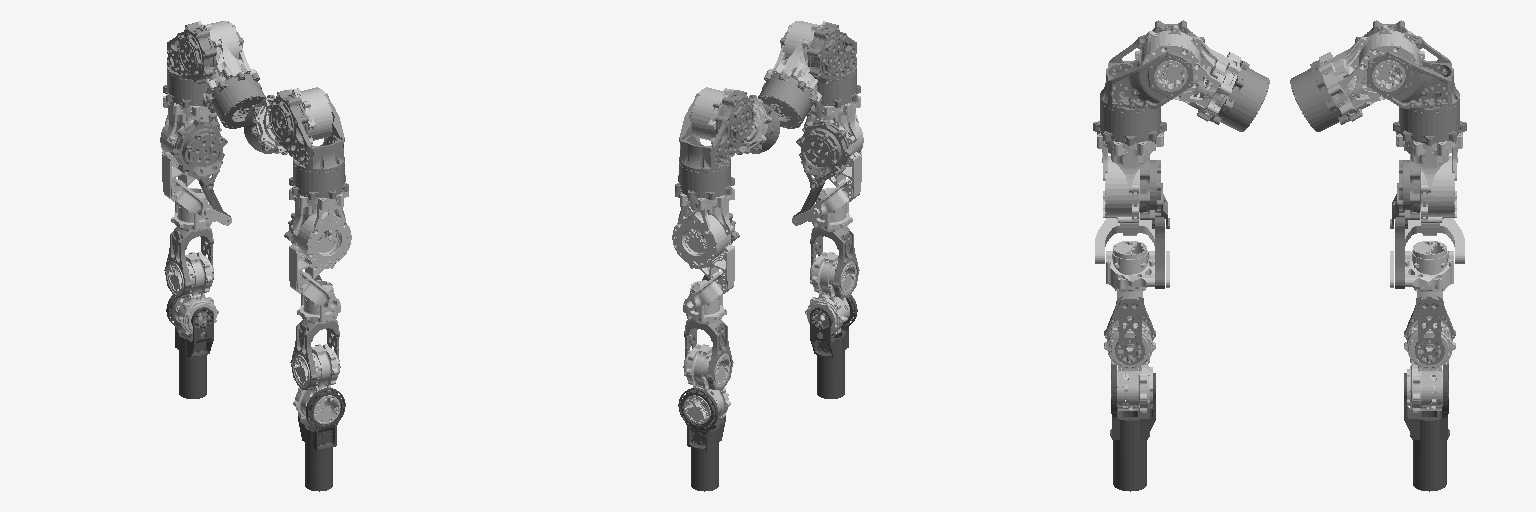
--- Render facts (derived) ---
3 views of the same robot in one strip: view 1: azimuth 30°, elevation 25°; view 2: azimuth 150°, elevation 25°; view 3: azimuth 270°, elevation 25° (orthographic).
Model raipal_stub-0 with 30 links and 29 joints (18 revolute, 11 fixed), rooted at world, posed all joints at 0.
Links seen in each view (by area): view 1: R_shoulder, R_humerus, L_shoulder, L_humerus, R_stub, L_stub, L_elb_input, R_carpal, L_carpal, L_base, R_collar, L_collar (+5 smaller); view 2: L_shoulder, L_humerus, R_shoulder, R_humerus, L_stub, R_stub, R_elb_input, L_carpal, R_carpal, R_base, L_collar, R_collar (+5 smaller); view 3: L_shoulder, R_shoulder, R_collar, L_collar, R_humerus, L_humerus, L_stub, R_stub, R_carpal, L_carpal, R_ulna, L_ulna (+8 smaller).
Link boxes in pixels (bbox=[...]): R_shoulder: bbox=[268, 90, 348, 199]; R_humerus: bbox=[289, 188, 351, 310]; L_shoulder: bbox=[163, 22, 243, 107]; L_humerus: bbox=[160, 96, 221, 217]; R_stub: bbox=[298, 388, 345, 491]; L_stub: bbox=[166, 295, 213, 398]; L_elb_input: bbox=[171, 119, 227, 189]; R_carpal: bbox=[293, 344, 340, 424]; L_carpal: bbox=[167, 252, 218, 335]; L_base: bbox=[206, 72, 265, 128]; R_collar: bbox=[252, 87, 332, 153]; L_collar: bbox=[195, 21, 256, 103]; L_shoulder: bbox=[675, 90, 755, 199]; L_humerus: bbox=[672, 188, 734, 310]; R_shoulder: bbox=[780, 22, 860, 107]; R_humerus: bbox=[802, 96, 863, 217]; L_stub: bbox=[678, 388, 725, 491]; R_stub: bbox=[810, 295, 857, 398]; R_elb_input: bbox=[796, 119, 852, 189]; L_carpal: bbox=[683, 344, 730, 424]; R_carpal: bbox=[805, 252, 856, 335]; R_base: bbox=[758, 72, 817, 128]; L_collar: bbox=[691, 87, 771, 153]; R_collar: bbox=[767, 21, 828, 103]; L_shoulder: bbox=[1355, 20, 1466, 145]; R_shoulder: bbox=[1093, 20, 1204, 145]; R_collar: bbox=[1135, 25, 1240, 121]; L_collar: bbox=[1319, 25, 1424, 121]; R_humerus: bbox=[1095, 132, 1163, 263]; L_humerus: bbox=[1396, 132, 1464, 263]; L_stub: bbox=[1404, 364, 1449, 491]; R_stub: bbox=[1110, 364, 1155, 491]; R_carpal: bbox=[1104, 316, 1155, 412]; L_carpal: bbox=[1404, 316, 1455, 412]; R_ulna: bbox=[1106, 241, 1169, 291]; L_ulna: bbox=[1390, 241, 1453, 291].
Size in the robot's own frame: 0.108 by 0.548 by 0.7385 metres.
22 mesh visuals loaded from 21 distinct referenced files (21 binary STL).

URDF robot description (raipal_stub-0):
<?xml version="1.0" encoding="utf-8"?>
<robot name="raipal_stub-0">
  <!-- [URDF-WRITER] Created with urdf-writer script (by CHH) on 2026-01-27 21:55:36.760380-->

  <!-- [URDF-WRITER] from module [_fixed-base] -->

  <!-- this link makes the robot fixed-base in RAISIM -->
  <link name="world"></link>

  <link name="base"></link>

  <joint name="base_fix" type="fixed">
    <origin xyz="0 0 0.8" rpy="0 0 0"/>
    <parent link="world" />
    <child link="base" />
    <axis xyz="0 0 0" />
  </joint>


  <!-- [URDF-WRITER] from module [raipal_R] -->

  <link name="R_base">
    <!-- CHH / 2025-09-01-20:14 -->
    <!-- link name: [R_base]-->
    <!-- frame: [R0_base]-->
    <inertial>
      <origin 
        xyz="-0.00013000 -0.06389000 -0.05559000"
        rpy="0 0 0" />
      <mass value="0.79658000" />
      <inertia
          ixx="0.00074742"
          ixy="1.892780e-6"
          ixz="-1.179560e-6"
          iyy="0.00098187"
          iyz="-0.00013334"
          izz="0.00082394" />
    </inertial>
    <visual>
      <origin
        xyz="0 0 0"
        rpy="0 0 0" />
      <geometry>
        <mesh filename="../meshes/R_base.STL" />
      </geometry>
      <material name="">
        <color rgba=".6 .6 .6 1" />
      </material>
    </visual>
    <!--<collision>
      <origin
        xyz="0 0 0"
        rpy="0 0 0" />
      <geometry>
        <mesh filename="../meshes/R_base.STL" />
      </geometry>
    </collision>-->
  </link>

  <joint name="R_fix" type="fixed">
    <origin xyz="0 0 0" rpy="0 0 0"/>
    <parent link="base" />
    <child link="R_base" />
    <axis xyz="0 0 0" />
  </joint>

  <link name="R_collar">
    <!-- CHH / 2025-09-01-20:14 -->
    <!-- link name: [R_collar]-->
    <!-- frame: [R1_flexion]-->
    <inertial>
      <origin 
        xyz="0.00471000 -1.000000e-5 0.10057000"
        rpy="0 0 0" />
      <mass value="1.72283000" />
      <inertia
          ixx="0.00466072"
          ixy="5.127800e-7"
          ixz="-0.00028338"
          iyy="0.00434837"
          iyz="8.010400e-7"
          izz="0.00167296" />
    </inertial>
    <visual>
      <origin
        xyz="0 0 0"
        rpy="0 0 0" />
      <geometry>
        <mesh filename="../meshes/R_collar.STL" />
      </geometry>
      <material name="">
        <color rgba="0.8 0.8 0.8 1" />
      </material>
    </visual>
    <!--<collision>
      <origin
        xyz="0 0 0"
        rpy="0 0 0" />
      <geometry>
        <mesh filename="../meshes/R_collar.STL" />
      </geometry>
    </collision>-->
  </link>

  <joint name="R1_flexion" type="revolute"> <!--[0]-->
    <origin
      xyz="0 -0.037198 -0.0709"
      rpy="1.0472 0 0" />
    <parent link="R_base" />
    <child link="R_collar" />
    <axis
      xyz="0 0 1" />
    <limit
      lower="-1.57"
      upper="3.14"
      effort="181"
      velocity="13.9" />
    <dynamics rotor_inertia = "0.0576402034658611" /> <!-- CHH / 2025-09-01-20:30-->
  </joint>

  <link name="R_shoulder">
    <!-- CHH / 2025-09-01-20:14 -->
    <!-- link name: [R_shoulder]-->
    <!-- frame: [R2_adduction]-->
    <inertial>
      <origin 
        xyz="-0.03309000 0.04277000 0.04408000"
        rpy="0 0 0" />
      <mass value="1.92988000" />
      <inertia
          ixx="0.00554587"
          ixy="0.00224326"
          ixz="-0.00046924"
          iyy="0.00422168"
          iyz="0.00058524"
          izz="0.00699049" />
    </inertial>
    <visual>
      <origin
        xyz="0 0 0"
        rpy="0 0 0" />
      <geometry>
        <mesh filename="../meshes/R_shoulder.STL" />
      </geometry>
      <material name="">
        <color rgba="0.6 0.6 0.6 1" />
      </material>
    </visual>
    <!--<collision>
      <origin
        xyz="0 0 0"
        rpy="0 0 0" />
      <geometry>
        <mesh filename="../meshes/R_shoulder.STL" />
      </geometry>
    </collision>-->
  </link>

  <joint name="R2_adduction" type="revolute"> <!--[1]-->
    <origin
      xyz="0.0373 0 0.1418"
      rpy="-1.5707963267949 1.0472 1.5707963267949" />
    <parent link="R_collar" />
    <child link="R_shoulder" />
    <axis
      xyz="0 0 -1" />
    <limit
      lower="-2.618"
      upper="0.488"
      effort="181"
      velocity="13.9" />
    <dynamics rotor_inertia = "0.0576402034658611" /> <!-- CHH / 2025-09-01-20:30-->
  </joint>

  <link name="R_humerus">
    <!-- CHH / 2025-09-01-20:14 -->
    <!-- link name: [R_humerus]-->
    <!-- frame: [R3_rotation]-->
    <inertial>
      <origin 
        xyz="-0.00369000 0.00351000 0.11625000"
        rpy="0 0 0" />
      <mass value="1.96262000" />
      <inertia
          ixx="0.00777442"
          ixy="-1.197057e-5"
          ixz="0.00065917"
          iyy="0.00822155"
          iyz="-0.00015972"
          izz="0.00201683" />
    </inertial>
    <visual>
      <origin
        xyz="0 0 0"
        rpy="0 0 0" />
      <geometry>
        <mesh filename="../meshes/R_humerus.STL" />
      </geometry>
      <material name="">
        <color rgba="0.8 0.8 0.8 1" />
      </material>
    </visual>
    <!--<collision>
      <origin
        xyz="0 0 0"
        rpy="0 0 0" />
      <geometry>
        <mesh filename="../meshes/R_humerus.STL" />
      </geometry>
    </collision>-->
  </link>

  <joint name="R3_rotation" type="revolute"> <!--[2]-->
    <origin
      xyz="-0.06 0.06025 0.0373"
      rpy="-1.5707963267949 1.5707963267949 0" />
    <parent link="R_shoulder" />
    <child link="R_humerus" />
    <axis
      xyz="0 0 -1" />
    <limit
      lower="-3.14"
      upper="3.14"
      effort="181"
      velocity="13.9" />
    <dynamics rotor_inertia = "0.0576402034658611" /> <!-- CHH / 2025-09-01-20:30-->
  </joint>

  <link name="R_elb_input">
    <!-- CHH / 2025-09-01-20:14 -->
    <!-- link name: [R_elb_input]-->
    <!-- frame: [R4a_elbow_power]-->
    <inertial>
      <origin 
        xyz="-2.000000e-5 0.00335000 0.05897000"
        rpy="0 0 0" />
      <mass value="0.83412000" />
      <inertia
          ixx="0.00071114"
          ixy="7.660000e-7"
          ixz="-9.255500e-7"
          iyy="0.00059983"
          iyz="-5.504818e-5"
          izz="0.00080767" />
    </inertial>
    <visual>
      <origin
        xyz="0 0 0"
        rpy="0 0 0" />
      <geometry>
        <mesh filename="../meshes/R_elb_input.STL" />
      </geometry>
      <material name="">
        <color rgba="0.6 0.6 0.6 1" />
      </material>
    </visual>
    <!--<collision>
      <origin
        xyz="0 0 0"
        rpy="0 0 0" />
      <geometry>
        <mesh filename="../meshes/R_elb_input.STL" />
      </geometry>
    </collision>-->
  </link>

  <joint name="R4a_elbow_power" type="revolute"> <!--[3]-->
    <origin
      xyz="0 0.0373 0.1418"
      rpy="1.5707963267949 0 0" />
    <parent link="R_humerus" />
    <child link="R_elb_input" />
    <axis
      xyz="0 0 1" />
    <limit
      lower="0"
      upper="1.556"
      effort="181"
      velocity="13.9" />
    <dynamics rotor_inertia = "0.0576402034658611" /> <!-- CHH / 2025-09-01-20:30-->
  </joint>

  <link name="R_elb_bar">
    <!-- CHH / 2025-09-01-20:14 -->
    <!-- link name: [R_elb_bar]-->
    <!-- frame: [R4b_elbow_bar_input]-->
    <inertial>
      <origin 
        xyz="0.04274000 0.00159000 -4.000000e-5"
        rpy="0 0 0" />
      <mass value="0.05314000" />
      <inertia
          ixx="2.335610e-6"
          ixy="0.0"
          ixz="0.0"
          iyy="6.149582e-5"
          iyz="-3.110000e-9"
          izz="6.199993e-5" />
    </inertial>
    <visual>
      <origin
        xyz="0 0 0"
        rpy="0 0 0" />
      <geometry>
        <mesh filename="../meshes/R_elb_bar.STL" />
      </geometry>
      <material name="">
        <color rgba="0.5 0.5 0.5 1" />
      </material>
    </visual>
    <!--<collision>
      <origin
        xyz="0 0 0"
        rpy="0 0 0" />
      <geometry>
        <mesh filename="../meshes/R_elb_bar.STL" />
      </geometry>
    </collision>-->
  </link>

  <joint name="R4b_elbow_bar_input" type="revolute"> <!--[4-unpowered]-->
    <origin
      xyz="0.00134978286029327 0.0599848154638326 0.0812119041053838"
      rpy="0 0 1.12941902735751" />
    <parent link="R_elb_input" />
    <child link="R_elb_bar" />
    <axis
      xyz="0 0 -1" />
    <limit
      lower="0"
      upper="1.802"
      effort="0"
      velocity="100" />
  </joint>

  <link name="R_ulna">
    <!-- CHH / 2025-09-01-20:14 -->
    <!-- link name: [R_ulna]-->
    <!-- frame: [R4_elbow]-->
    <inertial>
      <origin 
        xyz="0.00533000 0.01576000 -0.03891000"
        rpy="0 0 0" />
      <mass value="0.36947000" />
      <inertia
          ixx="0.00032310"
          ixy="-1.385696e-5"
          ixz="-4.244104e-5"
          iyy="0.00036383"
          iyz="-5.919040e-6"
          izz="0.00020708" />
    </inertial>
    <visual>
      <origin
        xyz="0 0 0"
        rpy="0 0 0" />
      <geometry>
        <mesh filename="../meshes/R_ulna.STL" />
      </geometry>
      <material name="">
        <color rgba="0.8 0.8 0.8 1" />
      </material>
    </visual>
    <!--<collision>
      <origin
        xyz="0 0 0"
        rpy="0 0 0" />
      <geometry>
        <mesh filename="../meshes/R_ulna.STL" />
      </geometry>
    </collision>-->
  </link>

  <joint name="R4_elbow" type="revolute"> <!--[5-unpowered]-->
    <origin
      xyz="0 -0.0439119041053754 0.25475"
      rpy="1.5707963267949 0 0" />
    <parent link="R_humerus" />
    <child link="R_ulna" />
    <axis
      xyz="0 0 -1" />
    <limit
      lower="0"
      upper="2.2689"
      effort="0"
      velocity="100" />
  </joint>

  <link name="R_radius">
    <!-- CHH / 2025-09-01-20:14 -->
    <inertial>
      <origin 
        xyz="0.00151000 0.0 0.10290000"
        rpy="0 0 0" />
      <mass value="0.42307000" />
      <inertia
          ixx="0.00112662"
          ixy="-1.975000e-8"
          ixz="-5.589578e-5"
          iyy="0.00120471"
          iyz="1.556000e-8"
          izz="0.00024138" />
    </inertial>
    <visual>
      <origin
        xyz="0 0 0"
        rpy="0 0 0" />
      <geometry>
        <mesh filename="../meshes/R_radius.STL" />
      </geometry>
      <material name="">
        <color rgba="0.6 0.6 0.6 1" />
      </material>
    </visual>
    <!--</collision>
      <origin
        xyz="0 0 0"
        rpy="0 0 0" />
      <geometry>
        <mesh filename="../meshes/R_radius.STL" />
      </geometry>
    </collision>-->
  </link>

  <joint name="R5_roll" type="revolute">  <!--[6]-->
    <origin
      xyz="0 -0.0135819531869474 -0.0439119041053754"
      rpy="-1.5707963267949 0 0" />
    <parent link="R_ulna" />
    <child link="R_radius" />
    <axis
      xyz="0 0 -1" />
    <limit
      lower="-1.57"
      upper="1.57"
      effort="12.61"
      velocity="53.8" />
    <dynamics rotor_inertia = "0.000540543349430043" /> <!-- CHH / 2025-09-01-20:30-->
  </joint>

  <link name="R_carpal">
    <!-- CHH / 2025-09-01-20:14 -->
    <inertial>
      <origin 
        xyz="-0.00117000 0.03421000 0.02964000"
        rpy="0 0 0" />
      <mass value="0.67981000" />
      <inertia
          ixx="0.00128813"
          ixy="3.134577e-5"
          ixz="3.268690e-6"
          iyy="0.00040998"
          iyz="-9.323146e-5"
          izz="0.00126953" />
    </inertial>
    <visual>
      <origin
        xyz="0 0 0"
        rpy="0 0 0" />
      <geometry>
        <mesh filename="../meshes/R_carpal.STL" />
      </geometry>
      <material name="">
        <color rgba="0.8 0.8 0.8 1" />
      </material>
    </visual>
    <!--</collision>
      <origin
        xyz="0 0 0"
        rpy="0 0 0" />
      <geometry>
        <mesh filename="../meshes/R_carpal.STL" />
      </geometry>
    </collision>-->
  </link>

  <joint name="R6_pitch" type="revolute">  <!--[7]-->
    <origin
      xyz="-0.0337 0 0.153581953186935"
      rpy="1.5707963267949 0 1.5707963267949" />
    <parent link="R_radius" />
    <child link="R_carpal" />
    <axis
      xyz="0 0 1" />
    <limit
      lower="-2.0944"
      upper="2.0944"
      effort="12.61"
      velocity="53.8" />
    <dynamics rotor_inertia = "0.000540543349430043" /> <!-- CHH / 2025-09-01-20:30-->
  </joint>

  <link name="R_ee">
    <!-- CHH / 2025-09-01-20:14 -->
    <inertial>
      <origin 
        xyz="0.0 0.0 0.04531000"
        rpy="0 0 0" />
      <mass value="0.13143000" />
      <inertia
          ixx="3.339173e-5"
          ixy="0.0"
          ixz="0.0"
          iyy="3.339173e-5"
          iyz="0.0"
          izz="4.133016e-5" />
    </inertial>
    <visual>
      <origin
        xyz="0 0 0"
        rpy="0 0 0" />
      <geometry>
        <mesh filename="../meshes/R_ee.STL" />
      </geometry>
      <material name="">
        <color rgba="0.6 0.6 0.6 1" />
      </material>
    </visual>
    <!--</collision>
      <origin
        xyz="0 0 0"
        rpy="0 0 0" />
      <geometry>
        <mesh filename="../meshes/R_ee.STL" />
      </geometry>
    </collision>-->
  </link>

  <joint name="R7_yaw" type="revolute">  <!--[8]-->
    <origin
      xyz="0.0264 0.073 0.0337"
      rpy="0 -1.5707963267949 0" />
    <parent link="R_carpal" />
    <child link="R_ee" />
    <axis
      xyz="0 0 -1" />
    <limit
      lower="-1.57079"
      upper="1.57079"
      effort="12.61"
      velocity="53.8" />
    <dynamics rotor_inertia = "0.000540543349430043" /> <!-- CHH / 2025-09-01-20:30-->
  </joint>

  <!-- Imaginary links for loop closure -->
  <link name="R_loop_barside"></link>

  <joint name="R4cA_elbow_loop_bar" type="fixed">
    <origin
      xyz="0.0854747786370337 0 0"
      rpy="0 0 0" />
    <parent link="R_elb_bar" />
    <child link="R_loop_barside" />
    <axis
      xyz="0 0 1" />
    <!-- relaxed limits since others are constrained -->
    <limit
      lower="-3.14"
      upper="3.14"
      effort="0"
      velocity="100" />
  </joint>

  <link name="R_loop_ulnaside"></link>

  <joint name="R4cB_elbow_loop_ulna_fixed" type="fixed">
    <origin
      xyz="0.0378633410992504 0.0243180468130526 0"
      rpy="0 0 1.12941902735751" />
    <parent link="R_ulna" />
    <child link="R_loop_ulnaside" />
    <axis
      xyz="0 0 0" />
  </joint>

  
  <!-- [URDF-WRITER] from module [stub-0_R] -->
  <link name="R_stub">
    <!-- CHH / 2025-10-17-21:24 -->
    <!-- link name: [stub-0]-->
    <!-- frame: [RE_end-effector]-->
    <inertial>
      <origin 
        xyz="0.0 -0.06296000 0.02373000"
        rpy="0 0 0" />
      <mass value="0.36027000" />
      <inertia
          ixx="0.00101582"
          ixy="0.0"
          ixz="0.0"
          iyy="0.00024407"
          iyz="7.755489e-5"
          izz="0.00097350" />
    </inertial>
    <visual>
      <origin
        xyz="0 0 0"
        rpy="0 0 0" />
      <geometry>
        <mesh filename="../meshes/stub_0.STL" />
      </geometry>
      <material name="">
        <color rgba="0.4 0.4 0.4 1" />
      </material>
    </visual>
  </link>

  <joint name="RE_end_effector_fixed" type="fixed">
    <origin
      xyz="0 0 0"
      rpy="0 0 3.141592" />
    <parent link="R_ee" />
    <child link="R_stub" />
    <axis
      xyz="0 0 3.141592" />
  </joint>


  <link name="R_stub-tip"></link>

  <joint name="RE_tip_fixed" type="fixed">
    <origin
      xyz="0 -0.157 0.0264"
      rpy="-1.5708 0 3.141592" />
    <parent link="R_stub" />
    <child link="R_stub-tip" />
    <axis
      xyz="0 0 0" />
  </joint>
  <!-- [URDF-WRITER] from module [raipal_L] -->

  <link name="L_base">
    <!-- CHH / 2025-09-01-20:14 -->
    <!-- mirrored from [L_base] (frame: R0_base)-->
    <inertial>
      <origin 
        xyz="-0.00013000 0.06389000 -0.05559000"
        rpy="0 0 0" />
      <mass value="0.79658000" />
      <inertia
          ixx="0.00074742"
          ixy="-1.892780e-6"
          ixz="-1.179560e-6"
          iyy="0.00098187"
          iyz="0.00013334"
          izz="0.00082394" />
    </inertial>
    <visual>
      <origin
        xyz="0 0 0"
        rpy="0 0 0" />
      <geometry>
        <mesh filename="../meshes/L_base.STL" />
      </geometry>
      <material name="">
        <color rgba=".6 .6 .6 1" />
      </material>
    </visual>
    <!--</collision>
      <origin
        xyz="0 0 0"
        rpy="0 0 0" />
      <geometry>
        <mesh filename="../meshes/L_base.STL" />
      </geometry>
    </collision>-->
  </link>

  <joint name="L_fix" type="fixed">
    <origin xyz="0 0 0" rpy="0 0 0"/>
    <parent link="base" />
    <child link="L_base" />
    <axis xyz="0 0 0" />
  </joint>

  <link name="L_collar">
    <!-- CHH / 2025-09-01-20:14 -->
    <!-- mirrored from [L_collar] (frame: R1_flexion)-->
    <inertial>
      <origin 
        xyz="0.00471000 1.000000e-5 0.10057000"
        rpy="0 0 0" />
      <mass value="1.72283000" />
      <inertia
          ixx="0.00466072"
          ixy="-5.127800e-7"
          ixz="-0.00028338"
          iyy="0.00434837"
          iyz="-8.010400e-7"
          izz="0.00167296" />
    </inertial>
    <visual>
      <origin
        xyz="0 0 0"
        rpy="0 0 0" />
      <geometry>
        <mesh filename="../meshes/L_collar.STL" />
      </geometry>
      <material name="">
        <color rgba="0.8 0.8 0.8 1" />
      </material>
    </visual>
    <!--</collision>
      <origin
        xyz="0 0 0"
        rpy="0 0 0" />
      <geometry>
        <mesh filename="../meshes/L_collar.STL" />
      </geometry>
    </collision>-->
  </link>

  <joint name="L1_flexion" type="revolute"> <!--[0]-->
    <origin
      xyz="0 0.037198 -0.0709"
      rpy="-1.0472 0 0" />
    <parent link="L_base" />
    <child link="L_collar" />
    <axis
      xyz="0 0 -1" />
    <limit
      lower="-1.57"
      upper="3.14"
      effort="181"
      velocity="13.9" />
    <dynamics rotor_inertia = "0.0576402034658611" />
    <!-- Calculated by CHH on 2025-09-01-20:14-->  
  </joint>

  <link name="L_shoulder">
    <!-- CHH / 2025-09-01-20:14 -->
    <!-- mirrored from [L_shoulder] (frame: R2_adduction)-->
    <inertial>
      <origin 
        xyz="-0.03309000 -0.04277000 0.04408000"
        rpy="0 0 0" />
      <mass value="1.92988000" />
      <inertia
          ixx="0.00554587"
          ixy="-0.00224326"
          ixz="-0.00046924"
          iyy="0.00422168"
          iyz="-0.00058524"
          izz="0.00699049" />
    </inertial>
    <visual>
      <origin
        xyz="0 0 0"
        rpy="0 0 0" />
      <geometry>
        <mesh filename="../meshes/L_shoulder.STL" />
      </geometry>
      <material name="">
        <color rgba="0.6 0.6 0.6 1" />
      </material>
    </visual>
    <!--</collision>
      <origin
        xyz="0 0 0"
        rpy="0 0 0" />
      <geometry>
        <mesh filename="../meshes/L_shoulder.STL" />
      </geometry>
    </collision>-->
  </link>

  <joint name="L2_adduction" type="revolute"> <!--[1]-->
    <origin
      xyz="0.0373 0 0.1418"
      rpy="1.5707963267949 1.0472 -1.5707963267949" />
    <parent link="L_collar" />
    <child link="L_shoulder" />
    <axis
      xyz="0 0 1" />
    <limit
      lower="-2.618"
      upper="0.488"
      effort="181"
      velocity="13.9" />
    <dynamics rotor_inertia = "0.0576402034658611" /> <!-- CHH / 2025-09-01-20:30-->
  </joint>

  <link name="L_humerus">
    <!-- CHH / 2025-09-01-20:14 -->
    <!-- mirrored from [L_humerus] (frame: R3_rotation)-->
    <inertial>
      <origin 
        xyz="-0.00369000 -0.00351000 0.11625000"
        rpy="0 0 0" />
      <mass value="1.96262000" />
      <inertia
          ixx="0.00777442"
          ixy="1.197057e-5"
          ixz="0.00065917"
          iyy="0.00822155"
          iyz="0.00015972"
          izz="0.00201683" />
    </inertial>
    <visual>
      <origin
        xyz="0 0 0"
        rpy="0 0 0" />
      <geometry>
        <mesh filename="../meshes/L_humerus.STL" />
      </geometry>
      <material name="">
        <color rgba="0.8 0.8 0.8 1" />
      </material>
    </visual>
    <!--</collision>
      <origin
        xyz="0 0 0"
        rpy="0 0 0" />
      <geometry>
        <mesh filename="../meshes/L_humerus.STL" />
      </geometry>
    </collision>-->
  </link>

  <joint name="L3_rotation" type="revolute"> <!--[2]-->
    <origin
      xyz="-0.06 -0.06025 0.0373"
      rpy="1.5707963267949 1.5707963267949 0" />
    <parent link="L_shoulder" />
    <child link="L_humerus" />
    <axis
      xyz="0 0 1" />
    <limit
      lower="-3.14"
      upper="3.14"
      effort="181"
      velocity="13.9" />
    <dynamics rotor_inertia = "0.0576402034658611" /> <!-- CHH / 2025-09-01-20:30-->
  </joint>

  <link name="L_elb_input">
    <!-- CHH / 2025-09-01-20:14 -->
    <!-- mirrored from [L_elb_input] (frame: R4a_elbow_power)-->
    <inertial>
      <origin 
        xyz="-2.000000e-5 -0.00335000 0.05897000"
        rpy="0 0 0" />
      <mass value="0.83412000" />
      <inertia
          ixx="0.00071114"
          ixy="-7.660000e-7"
          ixz="-9.255500e-7"
          iyy="0.00059983"
          iyz="5.504818e-5"
          izz="0.00080767" />
    </inertial>
    <visual>
      <origin
        xyz="0 0 0"
        rpy="0 0 0" />
      <geometry>
        <mesh filename="../meshes/L_elb_input.STL" />
      </geometry>
      <material name="">
        <color rgba="0.6 0.6 0.6 1" />
      </material>
    </visual>
    <!--</collision>
      <origin
        xyz="0 0 0"
        rpy="0 0 0" />
      <geometry>
        <mesh filename="../meshes/L_elb_input.STL" />
      </geometry>
    </collision>-->
  </link>

  <joint name="L4a_elbow_power" type="revolute"> <!--[3]-->
    <origin
      xyz="0 -0.0373 0.1418"
      rpy="-1.5707963267949 0 0" />
    <parent link="L_humerus" />
    <child link="L_elb_input" />
    <axis
      xyz="0 0 -1" />
    <limit
      lower="0"
      upper="1.556"
      effort="181"
      velocity="13.9" />
    <dynamics rotor_inertia = "0.0576402034658611" /> <!-- CHH / 2025-09-01-20:30-->
  </joint>

  <link name="L_elb_bar">
    <!-- CHH / 2025-09-01-20:14 -->
    <!-- mirrored from [L_elb_bar] (frame: R4b_elbow_bar_input)-->
    <inertial>
      <origin 
        xyz="0.04274000 -0.00159000 -4.000000e-5"
        rpy="0 0 0" />
      <mass value="0.05314000" />
      <inertia
          ixx="2.335610e-6"
          ixy="0.0"
          ixz="0.0"
          iyy="6.149582e-5"
          iyz="3.110000e-9"
          izz="6.199993e-5" />
    </inertial>
    <visual>
      <origin
        xyz="0 0 0"
        rpy="0 0 0" />
      <geometry>
        <mesh filename="../meshes/L_elb_bar.STL" />
      </geometry>
      <material name="">
        <color rgba="0.5 0.5 0.5 1" />
      </material>
    </visual>
    <!--</collision>
      <origin
        xyz="0 0 0"
        rpy="0 0 0" />
      <geometry>
        <mesh filename="../meshes/L_elb_bar.STL" />
      </geometry>
    </collision>-->
  </link>

  <joint name="L4b_elbow_bar_input" type="revolute">  <!--[4-unpowered]-->
    <origin
      xyz="0.00134978286029327 -0.0599848154638326 0.0812119041053838"
      rpy="0 0 -1.12941902735751" />
    <parent link="L_elb_input" />
    <child link="L_elb_bar" />
    <axis
      xyz="0 0 1" />
    <limit
      lower="0"
      upper="1.802"
      effort="0"
      velocity="100" />
  </joint>

  <link name="L_ulna">
    <!-- CHH / 2025-09-01-20:14 -->
    <!-- mirrored from [L_ulna] (frame: R4_elbow)-->
    <inertial>
      <origin 
        xyz="0.00533000 -0.01576000 -0.03891000"
        rpy="0 0 0" />
      <mass value="0.36947000" />
      <inertia
          ixx="0.00032310"
          ixy="1.385696e-5"
          ixz="-4.244104e-5"
          iyy="0.00036383"
          iyz="5.919040e-6"
          izz="0.00020708" />
    </inertial>
    <visual>
      <origin
        xyz="0 0 0"
        rpy="0 0 0" />
      <geometry>
        <mesh filename="../meshes/L_ulna.STL" />
      </geometry>
      <material name="">
        <color rgba="0.8 0.8 0.8 1" />
      </material>
    </visual>
    <!--</collision>
      <origin
        xyz="0 0 0"
        rpy="0 0 0" />
      <geometry>
        <mesh filename="../meshes/L_ulna.STL" />
      </geometry>
    </collision>-->
  </link>

  <joint name="L4_elbow" type="revolute">  <!--[5-unpowered]-->
    <origin
      xyz="0 0.043912 0.25475"
      rpy="-1.5707963267949 0 0" />
    <parent link="L_humerus" />
    <child link="L_ulna" />
    <axis
      xyz="0 0 1" />
    <limit
      lower="0"
      upper="2.2689"
      effort="0"
      velocity="100" />
  </joint>

  <link name="L_radius">
    <!-- CHH / 2025-09-01-20:14 -->
    <!-- link name: [L_radius]-->
    <!-- frame: [L5_roll]-->
    <inertial>
      <origin 
        xyz="0.00151000 0.0 0.10290000"
        rpy="0 0 0" />
      <mass value="0.42307000" />
      <inertia
          ixx="0.00112662"
          ixy="1.975000e-8"
          ixz="-5.589578e-5"
          iyy="0.00120471"
          iyz="-1.556000e-8"
          izz="0.00024138" />
    </inertial>
    <visual>
      <origin
        xyz="0 0 0"
        rpy="0 0 0" />
      <geometry>
        <mesh filename="../meshes/L_radius.STL" />
      </geometry>
      <material name="">
        <color rgba="0.6 0.6 0.6 1" />
      </material>
    </visual>
    <!--<collision>
      <origin
        xyz="0 0 0"
        rpy="0 0 0" />
      <geometry>
        <mesh filename="../meshes/L_radius.STL" />
      </geometry>
    </collision>-->
  </link>

  <joint name="L5_roll" type="revolute"> <!--[6]-->
    <origin
      xyz="0 0.0135819531869474 -0.0439119041053754"
      rpy="1.5707963267949 0 0" />
    <parent link="L_ulna" />
    <child link="L_radius" />
    <axis
      xyz="0 0 1" />
    <limit
      lower="-1.57"
      upper="1.57"
      effort="12.61"
      velocity="53.8" />
    <dynamics rotor_inertia = "0.000540543349430043" /> <!-- CHH / 2025-09-01-20:30-->
  </joint>

  <link name="L_carpal">
    <!-- CHH / 2025-09-01-20:14 -->
    <!-- link name: [L_carpal]-->
    <!-- frame: [L6_pitch]-->
    <inertial>
      <origin 
        xyz="-0.00117000 -0.03421000 0.02964000"
        rpy="0 0 0" />
      <mass value="0.67981000" />
      <inertia
          ixx="0.00128813"
          ixy="-3.134577e-5"
          ixz="3.268690e-6"
          iyy="0.00040998"
          iyz="9.323146e-5"
          izz="0.00126953" />
    </inertial>
    <visual>
      <origin
        xyz="0 0 0"
        rpy="0 0 0" />
      <geometry>
        <mesh filename="../meshes/L_carpal.STL" />
      </geometry>
      <material name="">
        <color rgba="0.8 0.8 0.8 1" />
      </material>
    </visual>
    <!--<collision>
      <origin
        xyz="0 0 0"
        rpy="0 0 0" />
      <geometry>
        <mesh filename="../meshes/L_carpal.STL" />
      </geometry>
    </collision>-->
  </link>

  <joint name="L6_pitch" type="revolute"> <!--[7]-->
    <origin
      xyz="-0.0337 0 0.153581953186935"
      rpy="-1.5707963267949 0 -1.5707963267949" />
    <parent link="L_radius" />
    <child link="L_carpal" />
    <axis
      xyz="0 0 -1" />
    <limit
      lower="-2.0944"
      upper="2.0944"
      effort="12.61"
      velocity="53.8" />
    <dynamics rotor_inertia = "0.000540543349430043" /> <!-- CHH / 2025-09-01-20:30-->
  </joint>

  <link name="L_ee">
    <!-- CHH / 2025-09-01-20:14 -->
    <!-- link name: [L_ee]-->
    <!-- frame: [L7_yaw]-->
    <inertial>
      <origin 
        xyz="0.0 0.0 0.04531000"
        rpy="0 0 0" />
      <mass value="0.13143000" />
      <inertia
          ixx="3.339173e-5"
          ixy="0.0"
          ixz="0.0"
          iyy="3.339173e-5"
          iyz="0.0"
          izz="4.133016e-5" />
    </inertial>
    <visual>
      <origin
        xyz="0 0 0"
        rpy="0 0 0" />
      <geometry>
        <mesh filename="../meshes/L_ee.STL" />
      </geometry>
      <material name="">
        <color rgba="0.6 0.6 0.6 1" />
      </material>
    </visual>
    <!--<collision>
      <origin
        xyz="0 0 0"
        rpy="0 0 0" />
      <geometry>
        <mesh filename="../meshes/L_ee.STL" />
      </geometry>
    </collision>-->
  </link>

  <joint name="L7_yaw" type="revolute"> <!--[8]-->
    <origin
      xyz="0.0264 -0.073 0.0337"
      rpy="0 -1.5707963267949 0" />
    <parent link="L_carpal" />
    <child link="L_ee" />
    <axis
      xyz="0 0 1" />
    <limit
      lower="-1.57079"
      upper="1.57079"
      effort="12.61"
      velocity="53.8" />
    <dynamics rotor_inertia = "0.000540543349430043" /> <!-- CHH / 2025-09-01-20:30-->
  </joint>

  <!-- imaginary links for loop closure -->
  <link name="L_loop_barside"></link>

  <joint name="L4cA_elbow_loop_bar" type="fixed">
    <origin
      xyz="0.0854747786370337 0 0"
      rpy="0 0 0" />
    <parent link="L_elb_bar" />
    <child link="L_loop_barside" />
    <axis
      xyz="0 0 -1" />
    <limit
      lower="-3.14"
      upper="3.14"
      effort="0"
      velocity="100" />
  </joint>

  <link name="L_loop_ulnaside"></link>

  <joint name="L4cB_elbow_loop_ulna_fixed" type="fixed">
    <origin
      xyz="0.0378633410992504 -0.0243180468130526 0"
      rpy="0 0 -1.12941902735751" />
    <parent link="L_ulna" />
    <child link="L_loop_ulnaside" />
    <axis
      xyz="0 0 0" />
  </joint>

  

  <!-- [URDF-WRITER] from module [stub-0_L] -->
  <link name="L_stub">
    <!-- CHH / 2025-10-17-21:24 -->
    <!-- link name: [stub-0]-->
    <!-- frame: [RE_end-effector]-->
    <inertial>
      <origin 
        xyz="0.0 -0.06296000 0.02373000"
        rpy="0 0 0" />
      <mass value="0.36027000" />
      <inertia
          ixx="0.00101582"
          ixy="0.0"
          ixz="0.0"
          iyy="0.00024407"
          iyz="7.755489e-5"
          izz="0.00097350" />
    </inertial>

    <visual>
      <origin
        xyz="0 0 0"
        rpy="0 0 0" />
      <geometry>
        <mesh filename="../meshes/stub_0.STL" />
      </geometry>
      <material name="">
        <color rgba="0.4 0.4 0.4 1" />
      </material>
    </visual>
  </link>

  <joint name="LE_end_effector_fixed" type="fixed">
    <origin
      xyz="0 0 0"
      rpy="0 0 0" />
    <parent link="L_ee" />
    <child link="L_stub" />
    <axis
      xyz="0 0 0" />
  </joint>

  <link name="L_stub-tip"></link>

  <joint name="LE_tip_fixed" type="fixed">
    <origin
      xyz="0 -0.157 0.0264"
      rpy="+1.5708 0 0" />
    <parent link="L_stub" />
    <child link="L_stub-tip" />
    <axis
      xyz="0 0 0" />
  </joint>
  <!-- [URDF-WRITER] merged constraints -->
  <constraints nominal_config="0 0 0 0 0 0 0 0 0 0 0 0 0 0 0 0 0 0 0 0 0 0 0 0 0 0 0 0 0 0 0 0 0 0 0 0 0 0 0 0 0 0">
    <pin body1="R_loop_barside" body2="R_loop_ulnaside" anchor="0.0 0.0 0.0"/>
    <pin body1="L_loop_barside" body2="L_loop_ulnaside" anchor="0.0 0.0 0.0"/>
  </constraints>

</robot>
